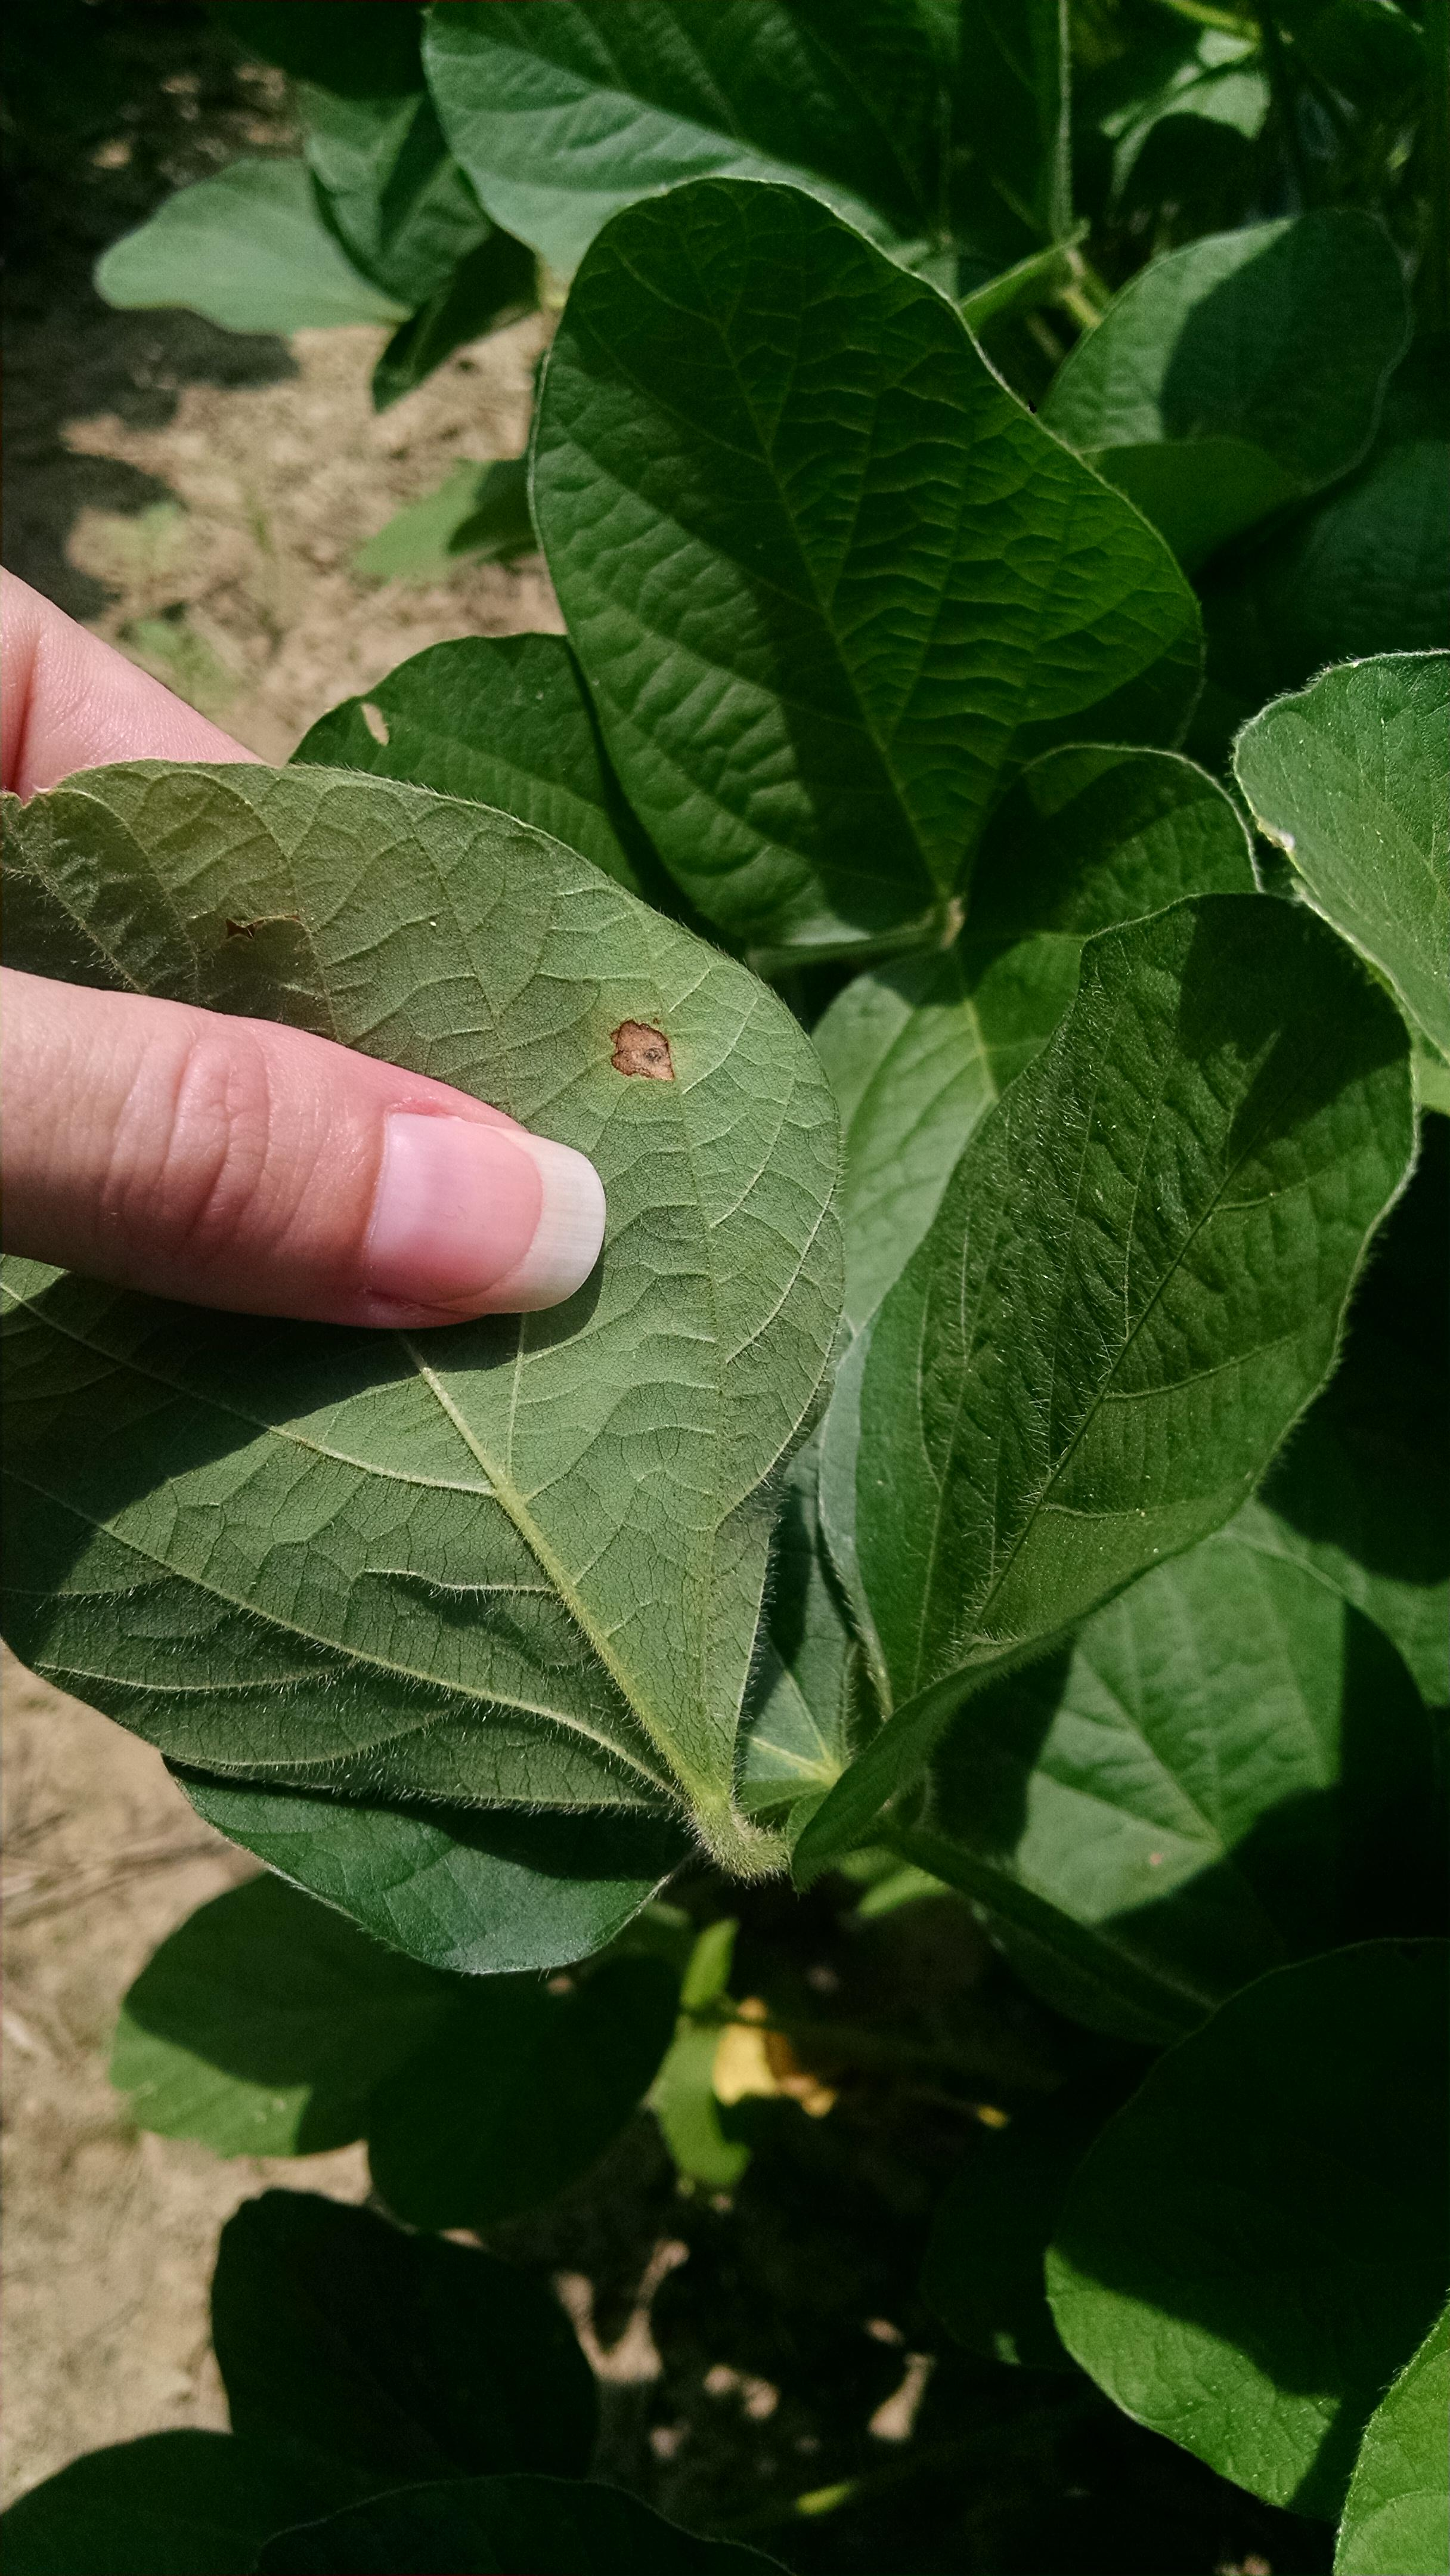Soyabean leaf: (0, 748, 854, 1964), (548, 163, 1211, 1086), (847, 881, 1415, 1872)
